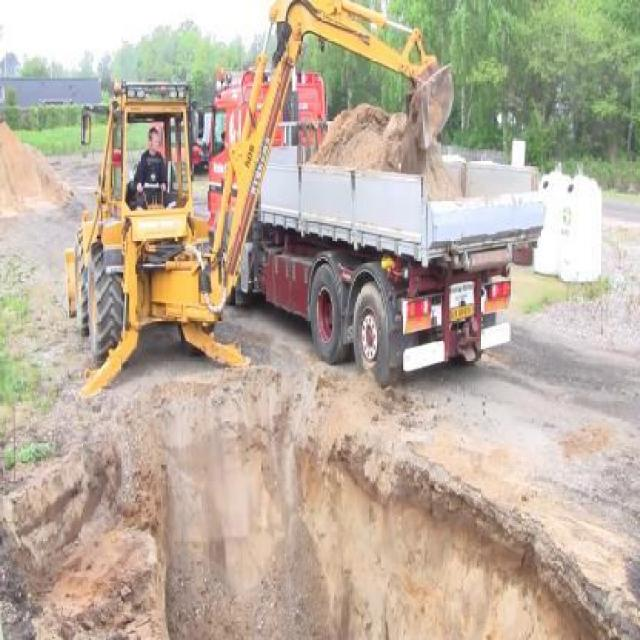Dump Truck: (198, 42, 544, 393)
Excavator: (59, 0, 266, 403)
